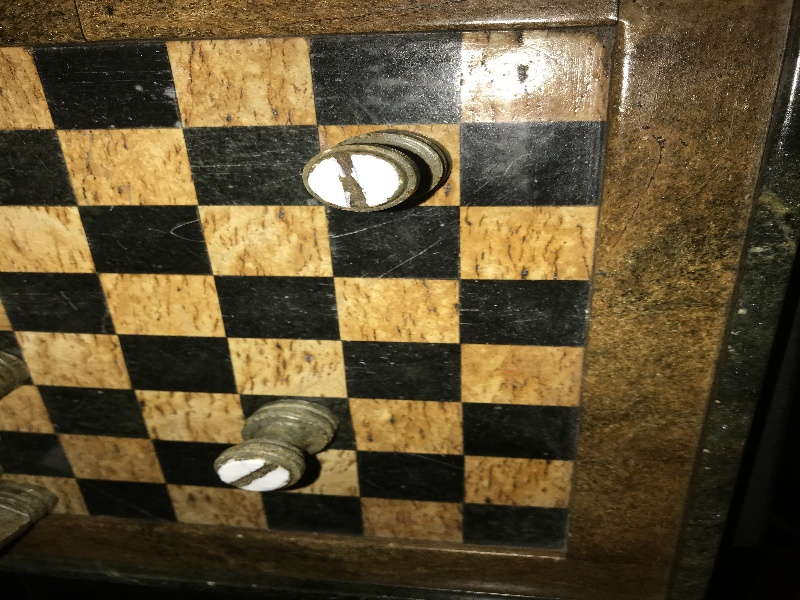WhiteRook: (303, 130, 452, 213), (213, 399, 336, 490)
